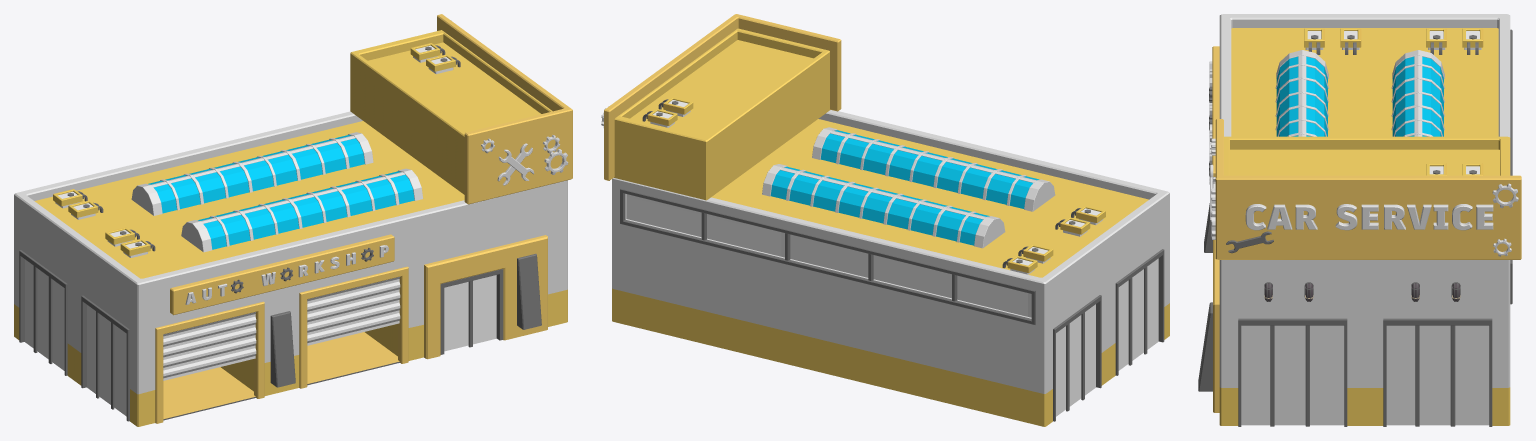
Rendered from Work_Shop.fbx.
The picture shows the model from 3 angles, left to right: view 1: azimuth 30°, elevation 25°; view 2: azimuth 150°, elevation 25°; view 3: azimuth 270°, elevation 25°; orthographic projection. The views are drawn at different scales.
Visible parts, largest first — view 1: Workshop; view 2: Workshop; view 3: Workshop.
Part boxes in pixels (left/top/right/bottom): Workshop: left=14, top=14, right=572, bottom=426; Workshop: left=601, top=14, right=1169, bottom=426; Workshop: left=1198, top=14, right=1521, bottom=426.
Size of the model in its own units: 2477 by 1147 by 1351.
1 material, 1 textured.
